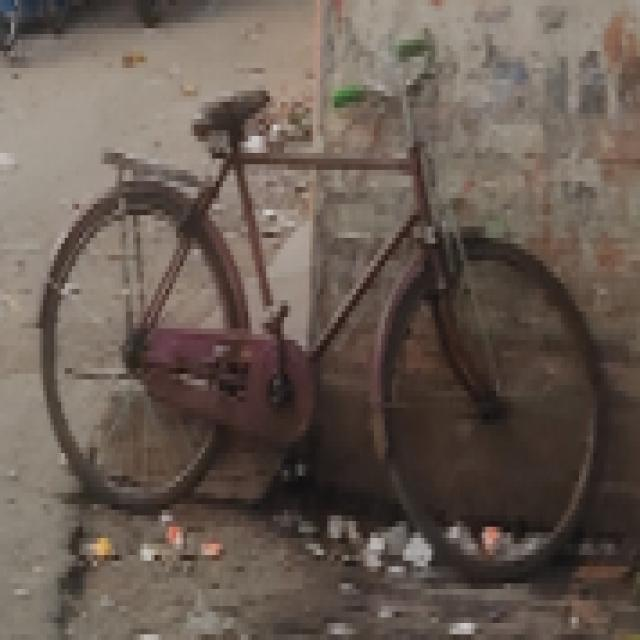bicycle: (30, 58, 608, 569)
